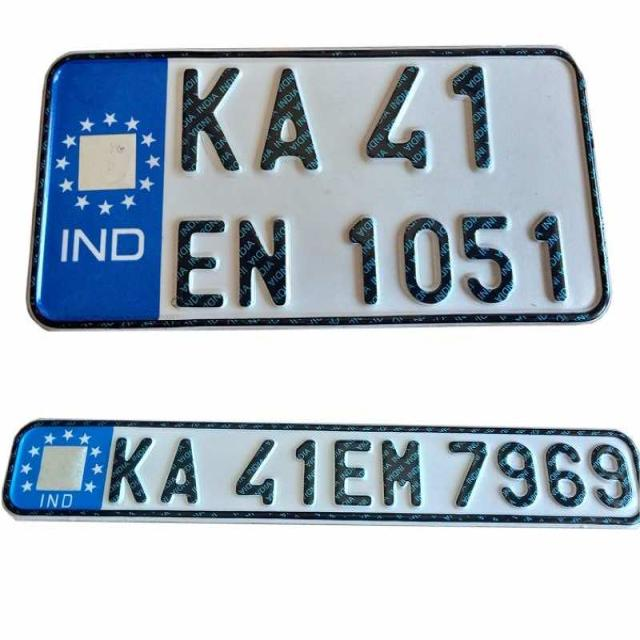license_plate: (29, 45, 614, 333), (23, 418, 640, 528)
